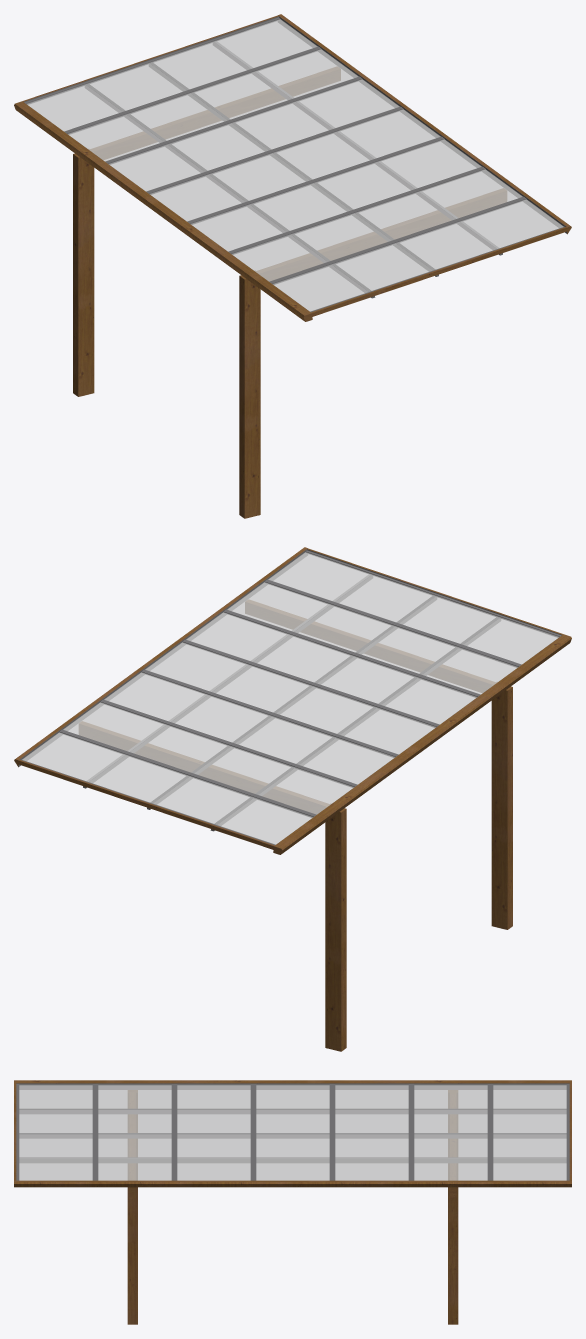
Rendered from 2750-22_naturalpine.fbx.
3 renders of one model, top to bottom at view 1: azimuth 30°, elevation 25°; view 2: azimuth 150°, elevation 25°; view 3: azimuth 270°, elevation 25°, orthographic. The views are drawn at different scales.
Parts seen in each view (by area): view 1: 2750-22naturalpine; view 2: 2750-22naturalpine; view 3: 2750-22naturalpine.
Part boxes in pixels (left/top/right/bottom): 2750-22naturalpine: left=14, top=14, right=571, bottom=518; 2750-22naturalpine: left=14, top=547, right=571, bottom=1051; 2750-22naturalpine: left=14, top=1080, right=571, bottom=1324.
Bounding box in the file's own units: 270 × 260 × 505.
Materials: 4 (2 with a texture image).
